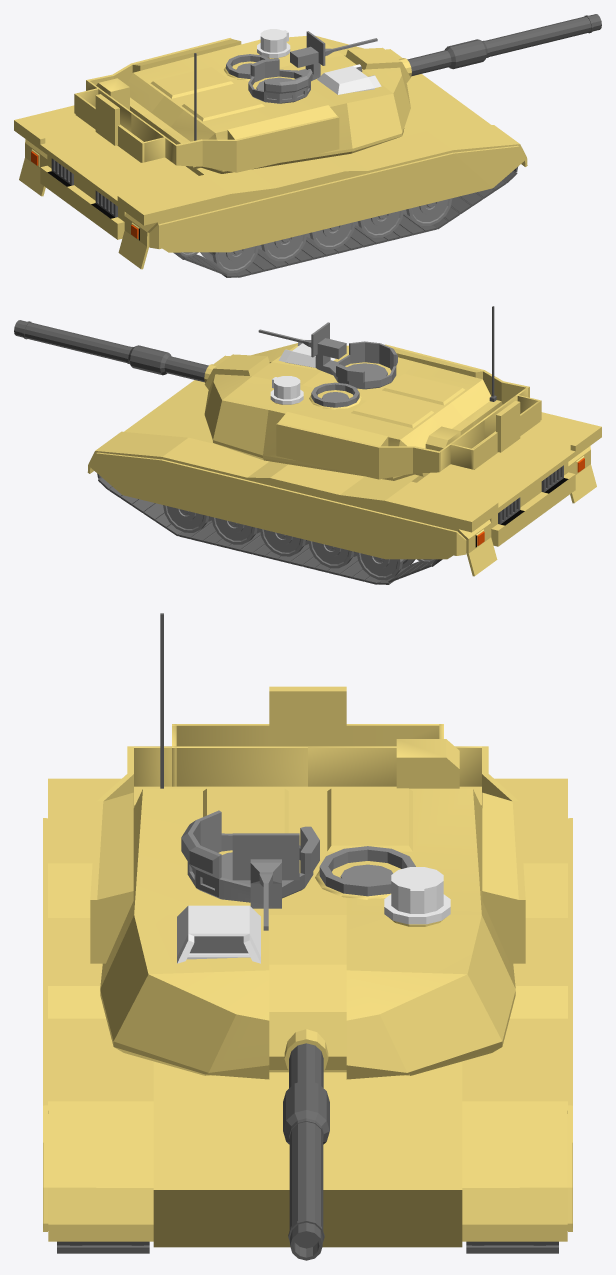
The model's file is BlenderMiddleTank.fbx.
3 renders of one model, top to bottom at view 1: azimuth 30°, elevation 25°; view 2: azimuth 150°, elevation 25°; view 3: azimuth 270°, elevation 25°, orthographic. The views are drawn at different scales.
Parts seen in each view (by area): view 1: Body, Tower, Cannon; view 2: Body, Tower, Cannon; view 3: Tower, Body, Cannon.
Part boxes in pixels (x1,y1,x2,y2): Body: (14, 49, 527, 277); Tower: (74, 29, 410, 173); Cannon: (345, 14, 601, 83); Body: (87, 355, 601, 584); Tower: (204, 306, 541, 480); Cannon: (14, 320, 269, 389); Tower: (90, 613, 525, 1079); Body: (43, 778, 572, 1253); Cannon: (269, 964, 346, 1260).
Size of the model in its own units: 5.87 by 2.27 by 2.6.
